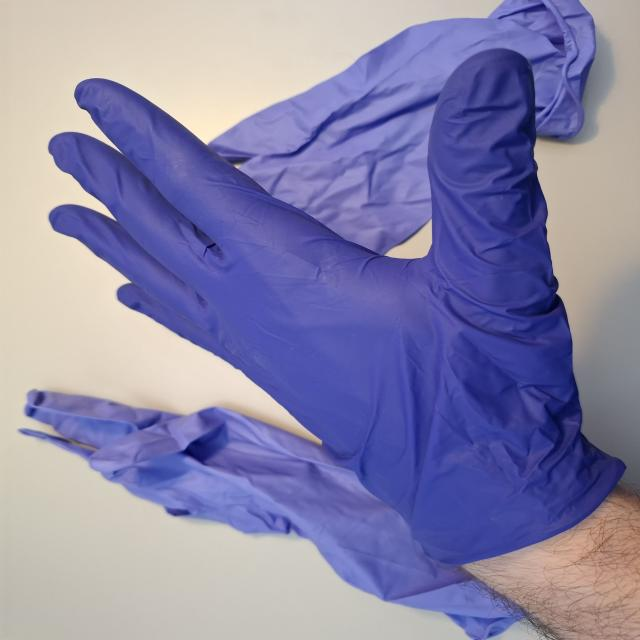glove_on: (46, 45, 635, 568)
